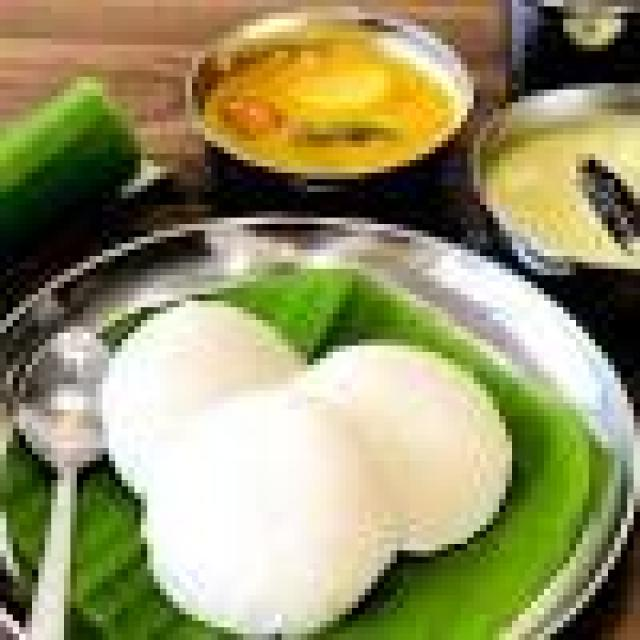idli: (134, 384, 384, 634), (288, 320, 518, 544), (90, 294, 300, 500)
